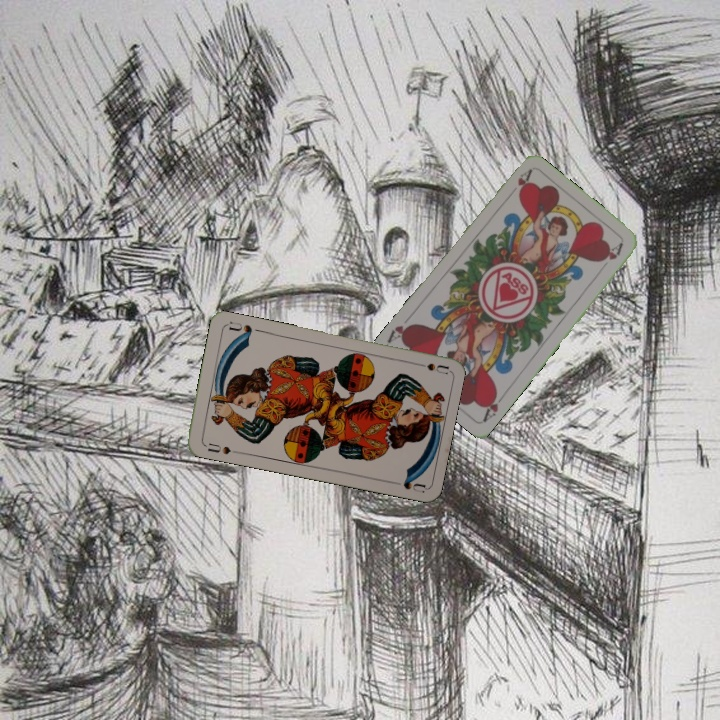HA: (503, 166, 534, 201), (479, 388, 509, 424)
SU: (200, 439, 241, 457), (409, 358, 450, 376)
